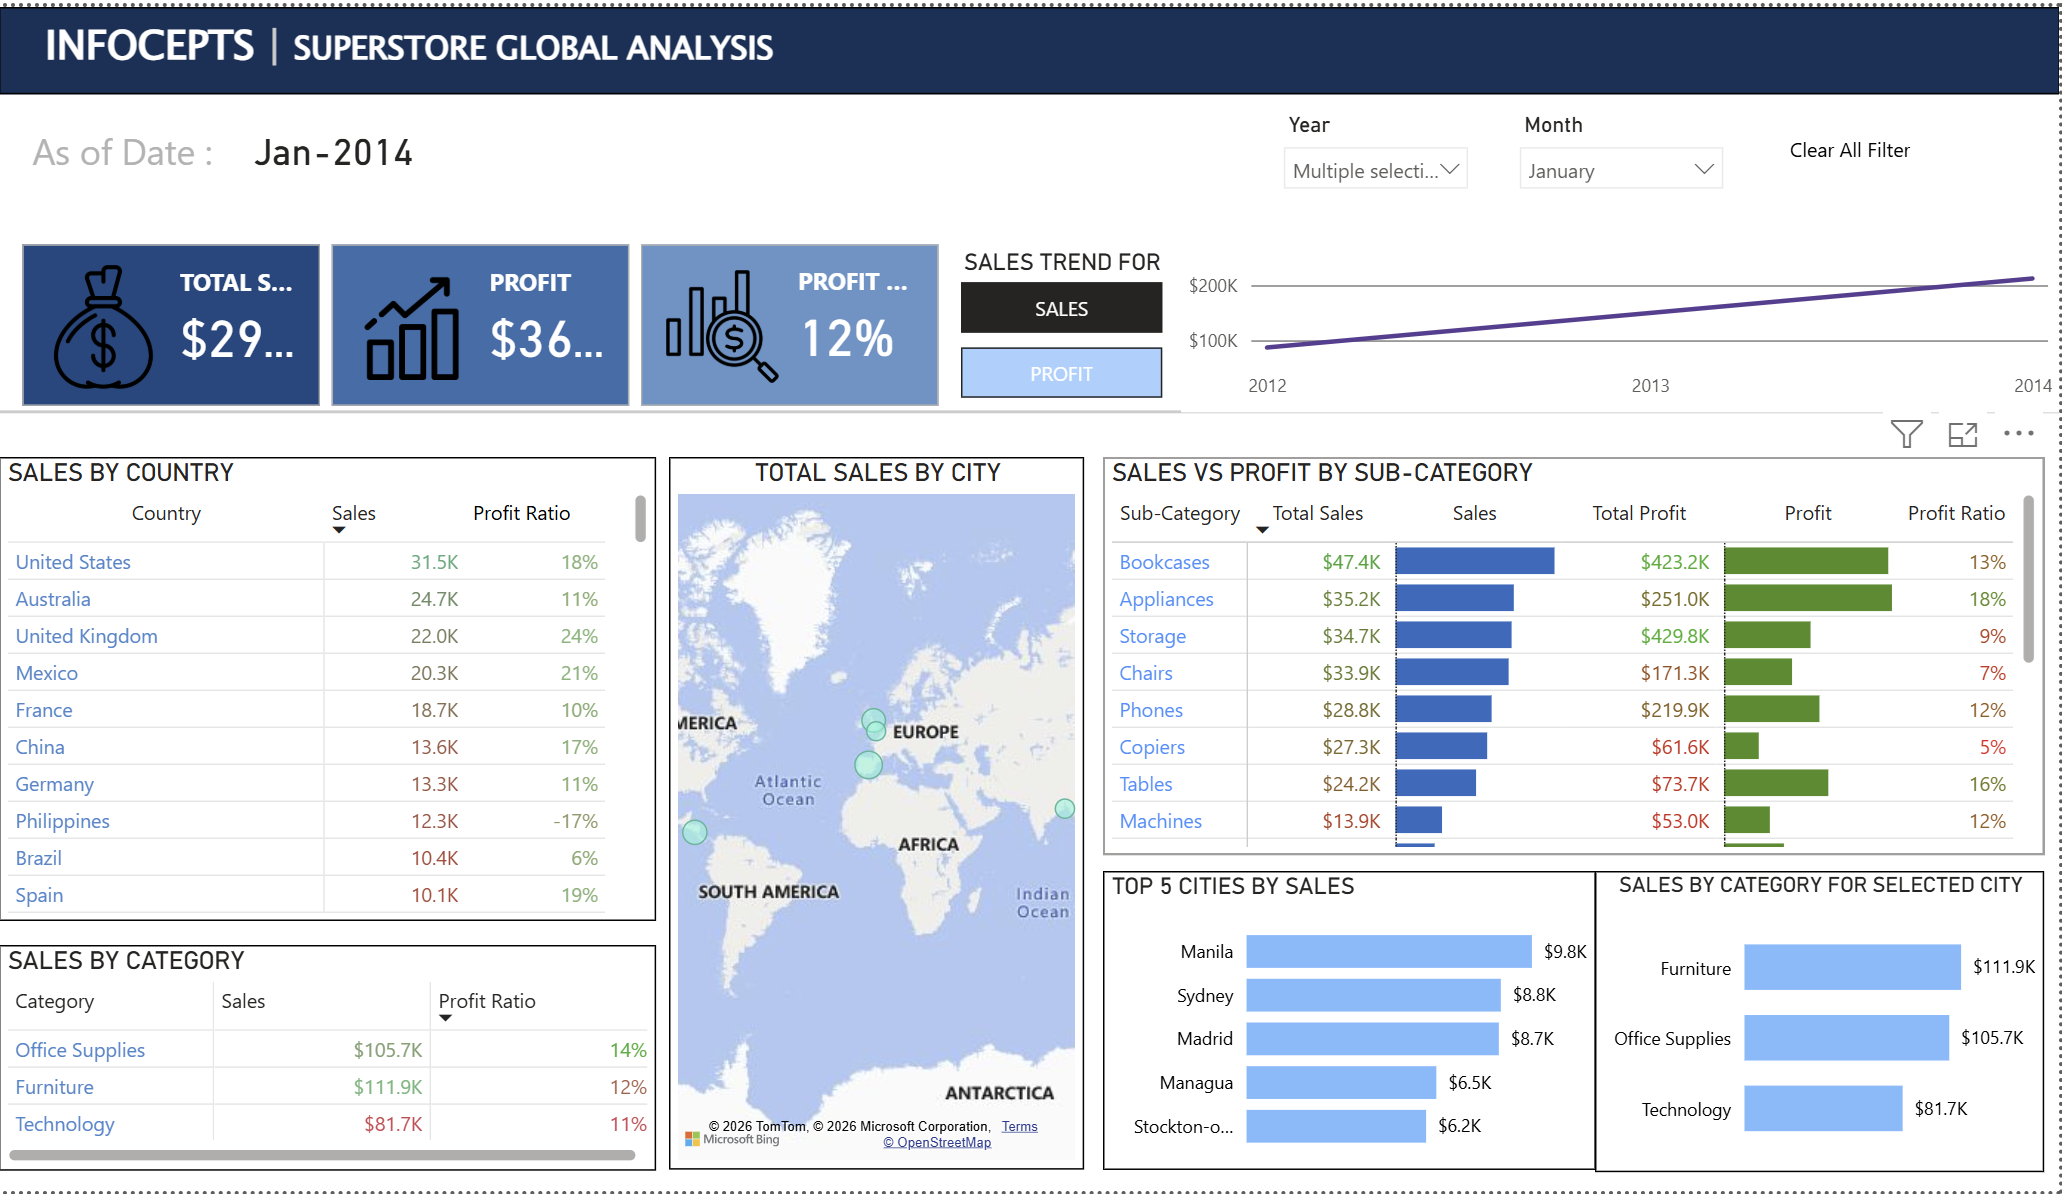

What the dashboard file says about the page in this screenshot:
{"tool":"powerbi","page":{"name":"Page 1","canvas":[1392,800],"ordinal":0},"visuals":[{"type":"azureMap","title":"TOTAL SALES BY CITY","fields":{"Category":["Global Superstore- Orders.City"],"Size":["Sum(Global Superstore- Orders.Sales)"]},"box":[453.1,304.6,280.3,481.3],"z":0},{"type":"cardVisual","fields":{"Data":["Global Superstore- Orders.Total Sales","Sum(Global Superstore- Orders.Profit)","Global Superstore- Orders.Profit Ratio"]},"box":[10.2,154.9,629.8,119],"z":1000},{"type":"pivotTable","title":"SALES BY CATEGORY","fields":{"Rows":["Global Superstore- Orders.Category"],"Values":["Global Superstore- Orders.Total Sales","Global Superstore- Orders.Profit Ratio"]},"box":[0,633.6,444.2,152.3],"z":2000},{"type":"pivotTable","title":"SALES BY COUNTRY","fields":{"Rows":["Global Superstore- Orders.Country"],"Values":["Sum(Global Superstore- Orders.Sales)","Global Superstore- Orders.Profit Ratio"]},"box":[0,304.6,444.2,313.6],"z":3000},{"type":"textbox","box":[0,0,1392.6,58.9],"z":5000},{"type":"shape","box":[0,198.4,1392.6,149.8],"z":6000},{"type":"barChart","title":"TOP 5 CITIES BY SALES ","fields":{"Category":["Global Superstore- Orders.City"],"Y":["Global Superstore- Orders.Total Sales"]},"box":[746.2,583.7,332.8,202.2],"z":7000},{"type":"barChart","title":"SALES BY CATEGORY FOR SELECTED CITY","fields":{"Category":["Global Superstore- Orders.Category"],"Y":["Global Superstore- Orders.Total Sales"]},"box":[1079,583.7,303.4,203.5],"z":8000},{"type":"pivotTable","title":"SALES VS PROFIT BY SUB-CATEGORY","fields":{"Rows":["Global Superstore- Orders.Sub-Category"],"Values":["Global Superstore- Orders.Total Sales","Sum(Global Superstore- Orders.Sales)","Global Superstore- Orders.Total Profit","Sum(Global Superstore- Orders.Profit)","Global Superstore- Orders.Profit Ratio"]},"box":[746.2,304.6,636.2,268.8],"z":9000},{"type":"lineChart","fields":{"Category":["Global Superstore- Date Table.MonthInCalendar.Variation.Date Hierarchy.Year","Global Superstore- Date Table.MonthInCalendar.Variation.Date Hierarchy.Quarter","Global Superstore- Date Table.MonthInCalendar.Variation.Date Hierarchy.Month","Global Superstore- Date Table.MonthInCalendar.Variation.Date Hierarchy.Day"],"Y":["Global Superstore- Orders.Total Sales"]},"box":[798.6,155.3,593.4,118.4],"z":10000},{"type":"bookmarkNavigator","title":"SALES TREND FOR","box":[650.2,163.8,137,102.4],"z":11000},{"type":"slicer","fields":{"Values":["Global Superstore- Date Table.Date.Variation.Date Hierarchy.Year"]},"box":[857.6,66.6,144.6,88.3],"z":12000},{"type":"slicer","fields":{"Values":["Global Superstore- Date Table.Date.Variation.Date Hierarchy.Month"]},"box":[1017.6,66.6,157.4,88.3],"z":13000},{"type":"actionButton","box":[1191.7,66.6,117.8,58.9],"z":14000},{"type":"cardVisual","title":"As of date :","fields":{"Data":["Global Superstore- Date Table.Selected_Slicers"]},"box":[154.8,58.8,170.6,67.4],"z":15000},{"type":"textbox","box":[10.2,75.5,157.4,49.9],"z":16000}]}

Visuals, with their boxes in screenshot pixels (x1, y1, x2, y2), scaled from the page's 1392x800 canvas onto the 2062x1194 screenshot:
"TOTAL SALES BY CITY" azureMap: left=671, top=455, right=1086, bottom=1173
cardVisual - Global Superstore- Orders.Total Sales x Sum(Global Superstore- Orders.Profit): left=15, top=231, right=948, bottom=409
"SALES BY CATEGORY" pivotTable: left=0, top=946, right=658, bottom=1173
"SALES BY COUNTRY" pivotTable: left=0, top=455, right=658, bottom=923
textbox: left=0, top=0, right=2061, bottom=88
shape: left=0, top=296, right=2061, bottom=520
"TOP 5 CITIES BY SALES " barChart: left=1105, top=871, right=1598, bottom=1173
"SALES BY CATEGORY FOR SELECTED CITY" barChart: left=1598, top=871, right=2048, bottom=1175
"SALES VS PROFIT BY SUB-CATEGORY" pivotTable: left=1105, top=455, right=2048, bottom=856
lineChart - Global Superstore- Date Table.MonthInCalendar.Variation.Date Hierarchy.Year x Global Superstore- Date Table.MonthInCalendar.Variation.Date Hierarchy.Quarter: left=1183, top=232, right=2061, bottom=408
"SALES TREND FOR" bookmarkNavigator: left=963, top=244, right=1166, bottom=397
slicer - Global Superstore- Date Table.Date.Variation.Date Hierarchy.Year: left=1270, top=99, right=1485, bottom=231
slicer - Global Superstore- Date Table.Date.Variation.Date Hierarchy.Month: left=1507, top=99, right=1741, bottom=231
actionButton: left=1765, top=99, right=1940, bottom=187
"As of date :" cardVisual: left=229, top=88, right=482, bottom=188
textbox: left=15, top=113, right=248, bottom=187
